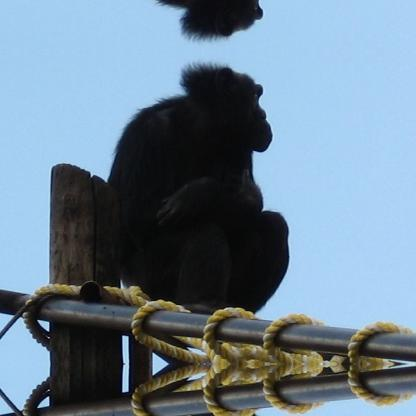Monkey: (72, 60, 296, 332)
